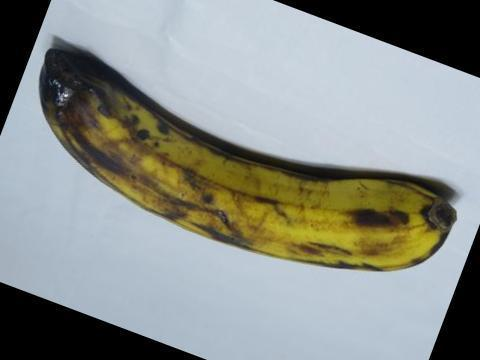overripe: (28, 43, 463, 283)
rotten: (5, 35, 125, 157)
